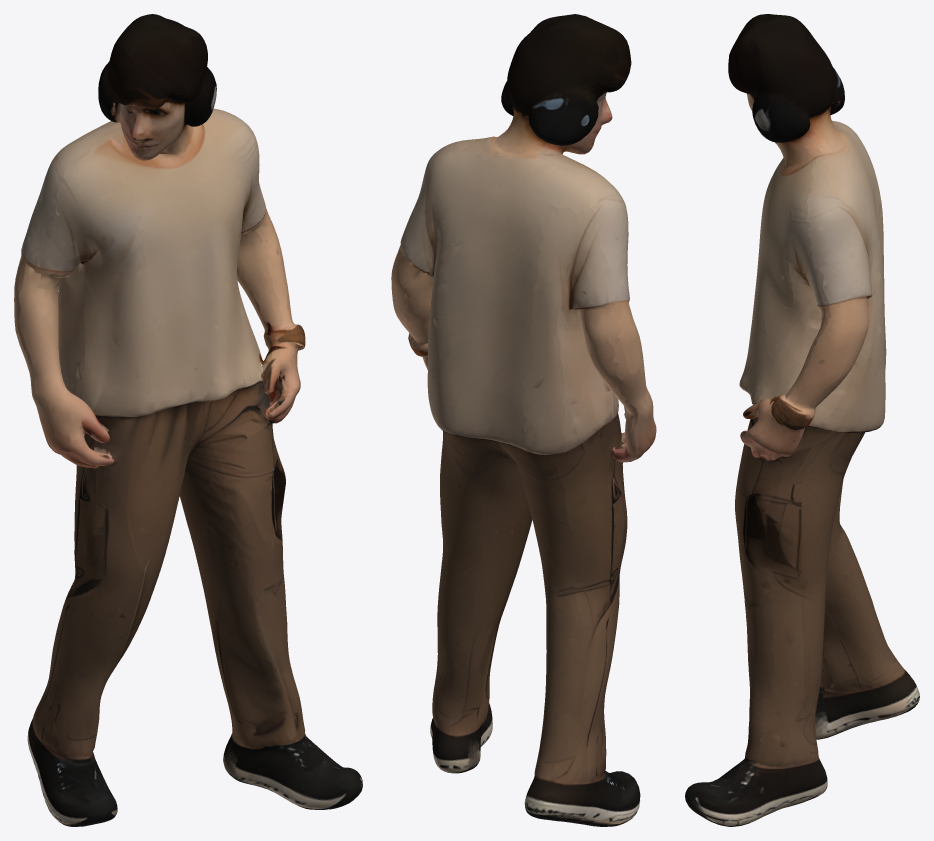
File: pants.glb
The picture shows the model from 3 angles, left to right: view 1: azimuth 30°, elevation 25°; view 2: azimuth 150°, elevation 25°; view 3: azimuth 270°, elevation 25°; orthographic projection. The views are drawn at different scales.
Parts seen in each view (by area): view 1: textured_mesh; view 2: textured_mesh; view 3: textured_mesh.
Part boxes in pixels (box(x1,y1,x2,y2)): textured_mesh: box(14, 14, 362, 826); textured_mesh: box(391, 14, 656, 826); textured_mesh: box(685, 14, 919, 826).
Size of the model in its own units: 0.7121 by 1.99 by 0.5745.
Materials: 1 (1 with a texture image).
